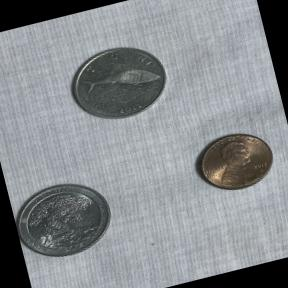coin: (55, 30, 186, 137), (7, 165, 127, 272), (181, 119, 286, 207)
